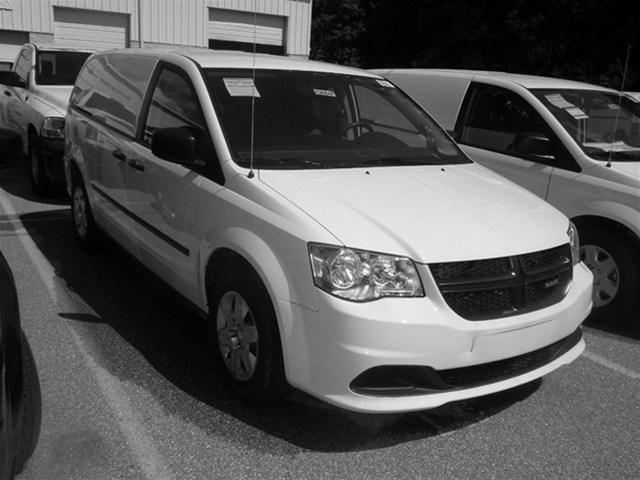car: (61, 42, 599, 422)
